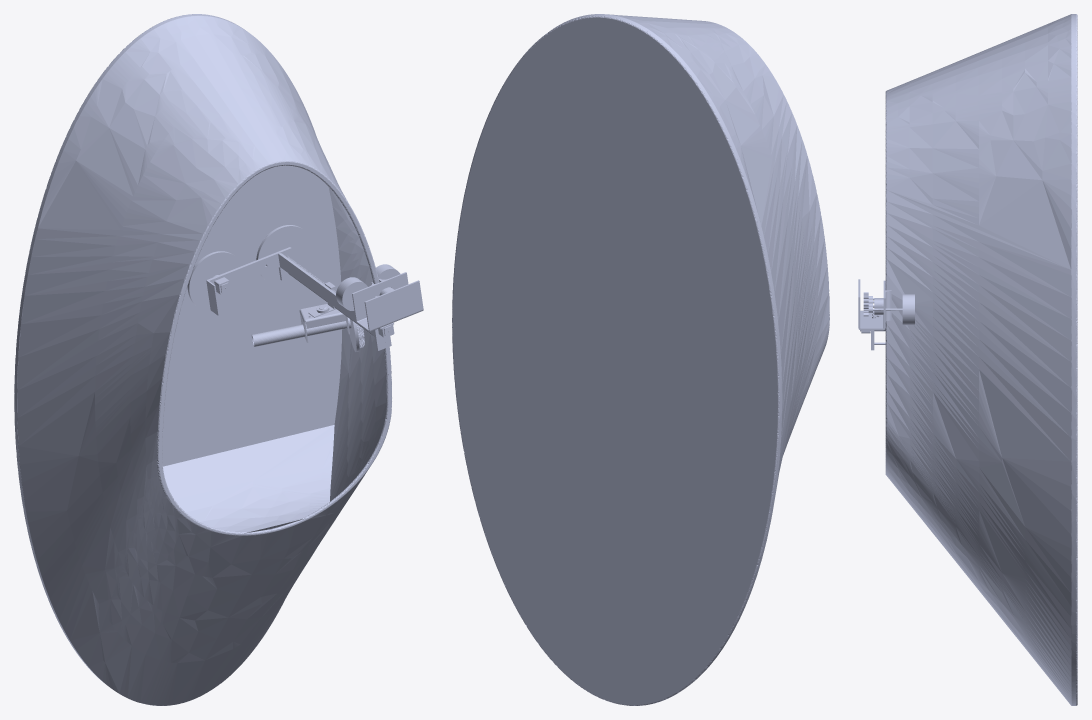
File: urinal-assembly.obj
3 renders of one model, left to right at view 1: azimuth 30°, elevation 25°; view 2: azimuth 150°, elevation 25°; view 3: azimuth 270°, elevation 25°, orthographic.
Visible parts, largest first — view 1: obj4, obj5, obj7, obj6, obj3, obj1, obj8, obj2; view 2: obj4, obj5, obj1, obj7; view 3: obj5, obj4, obj7, obj1, obj3, obj6.
Boxes of the visible parts, bbox=[...] form: obj4: bbox=[17, 14, 423, 705]; obj5: bbox=[14, 16, 399, 705]; obj7: bbox=[17, 14, 423, 705]; obj6: bbox=[24, 22, 408, 533]; obj3: bbox=[102, 20, 395, 705]; obj1: bbox=[14, 14, 394, 704]; obj8: bbox=[25, 15, 394, 705]; obj2: bbox=[228, 164, 388, 402]; obj4: bbox=[453, 14, 829, 704]; obj5: bbox=[612, 15, 829, 684]; obj1: bbox=[599, 15, 779, 705]; obj7: bbox=[452, 15, 782, 705]; obj5: bbox=[860, 14, 1075, 705]; obj4: bbox=[860, 14, 1075, 705]; obj7: bbox=[858, 32, 1077, 705]; obj1: bbox=[860, 14, 1077, 416]; obj3: bbox=[860, 18, 1071, 669]; obj6: bbox=[858, 14, 1071, 656].
Size of the model in its own units: 600 by 1200 by 354.
